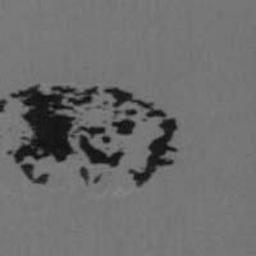Inclusion: (0, 83, 179, 189), (79, 165, 104, 189)
